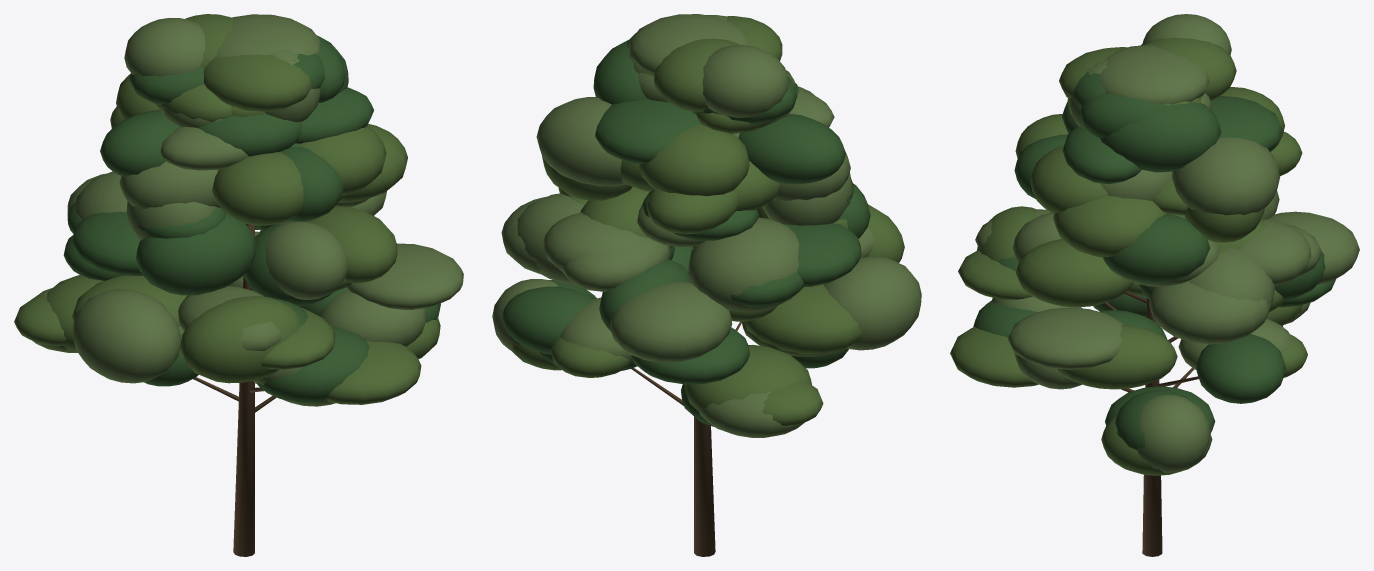
Rendered from SM_Birch.fbx.
3 views of the same model, side by side, from view 1: azimuth 30°, elevation 25°; view 2: azimuth 150°, elevation 25°; view 3: azimuth 270°, elevation 25° (orthographic). The views are drawn at different scales.
Parts seen in each view (by area): view 1: SM_Birch; view 2: SM_Birch; view 3: SM_Birch.
Boxes of the visible parts, x1,y1,x2,y2 form: SM_Birch: (14,14,463,556); SM_Birch: (492,14,921,556); SM_Birch: (950,14,1359,556).
Size of the model in its own units: 650 by 625 by 854.
